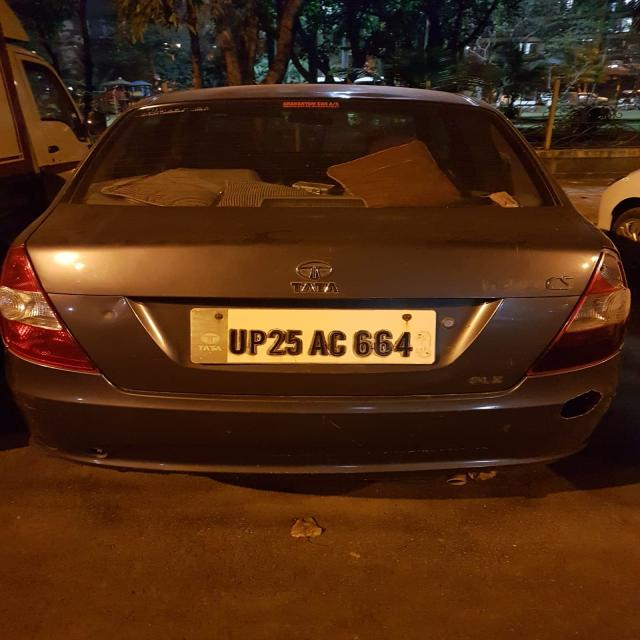Number-Plate: (190, 307, 435, 360)
